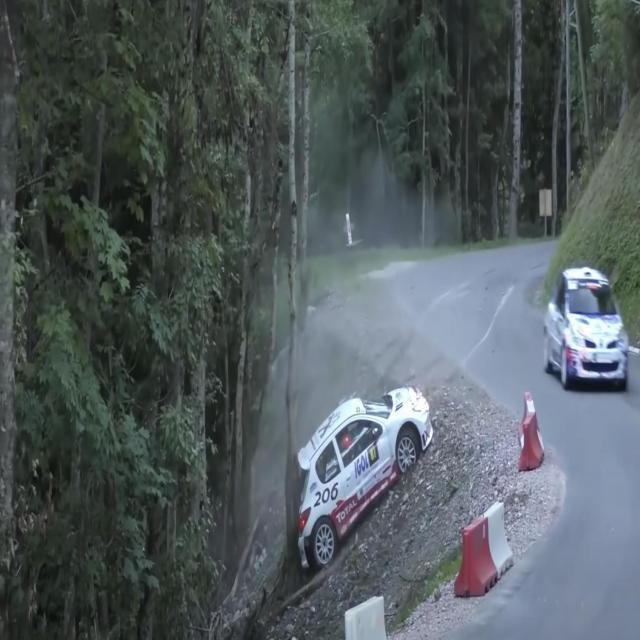moderate: (288, 364, 438, 576)
